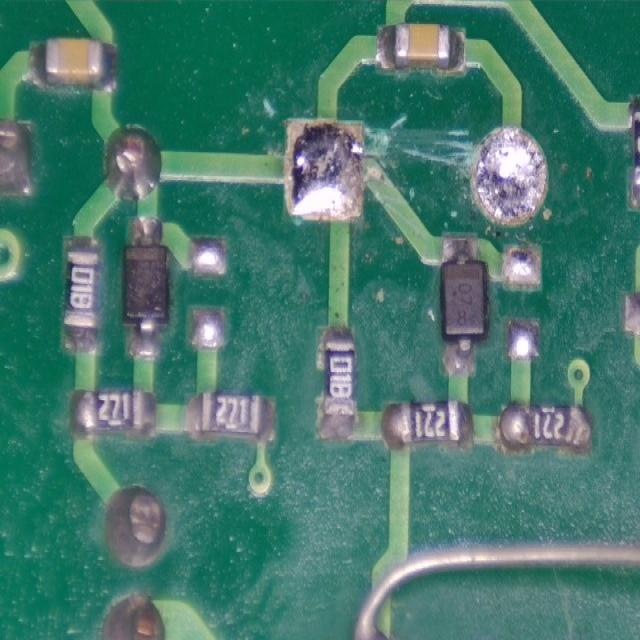Dry_joint: (284, 120, 363, 219), (475, 129, 544, 219)
